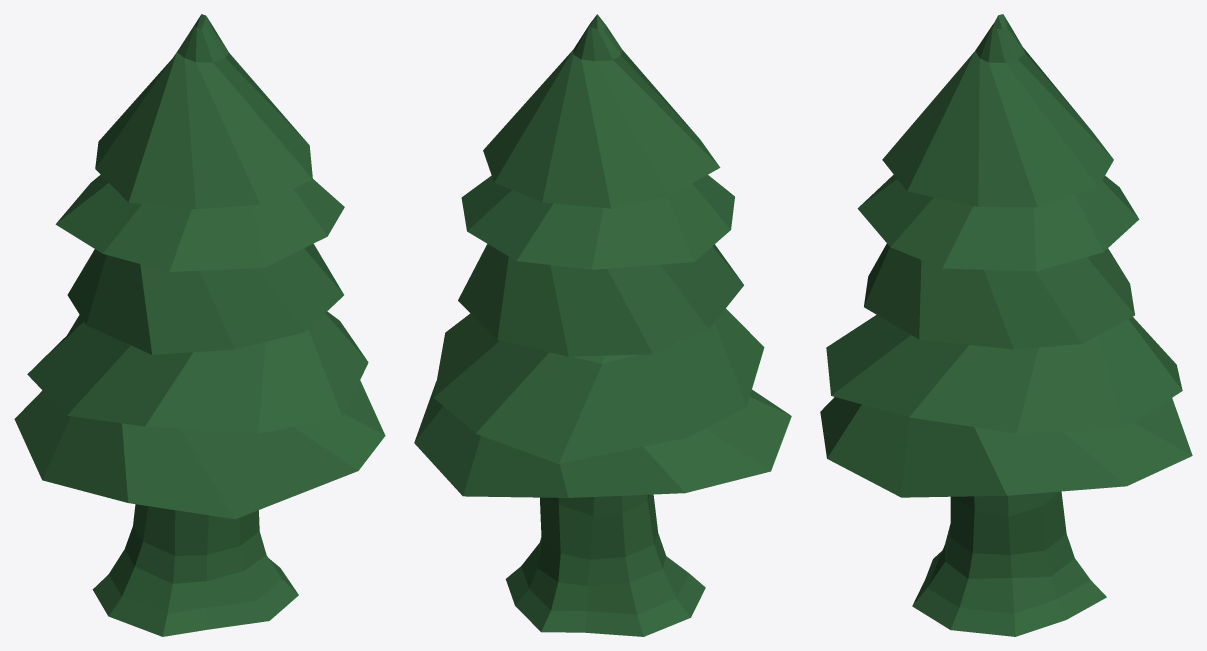
Rendered from tree_004.fbx.
3 renders of one model, left to right at view 1: azimuth 30°, elevation 25°; view 2: azimuth 150°, elevation 25°; view 3: azimuth 270°, elevation 25°, orthographic.
Visible parts, largest first — view 1: tree_004; view 2: tree_004; view 3: tree_004.
Boxes of the visible parts, x1,y1,x2,y2 form: tree_004: (14, 14, 385, 636); tree_004: (414, 14, 791, 636); tree_004: (820, 14, 1192, 636).
Bounding box in the file's own units: 1007 × 1712 × 994.
